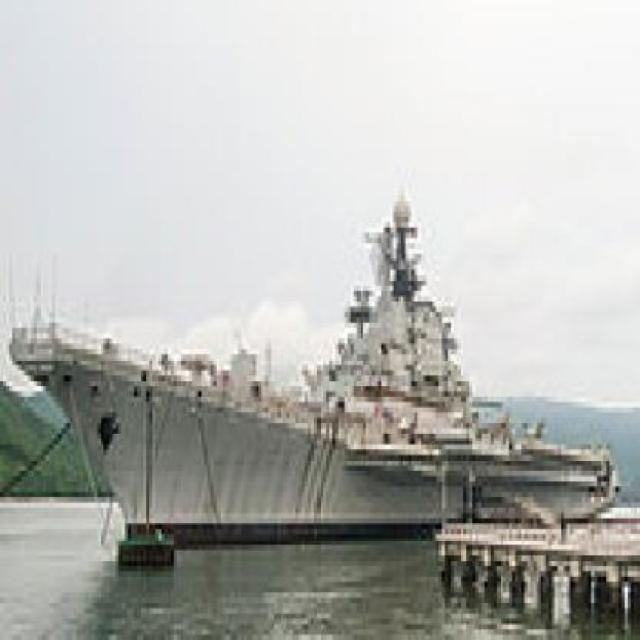warship2: (28, 170, 617, 604)
